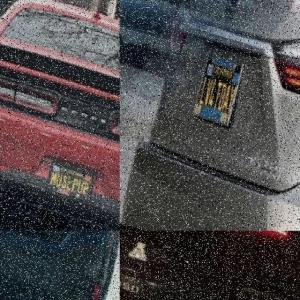Plate: (190, 53, 244, 127), (43, 158, 94, 200), (0, 231, 32, 258)
